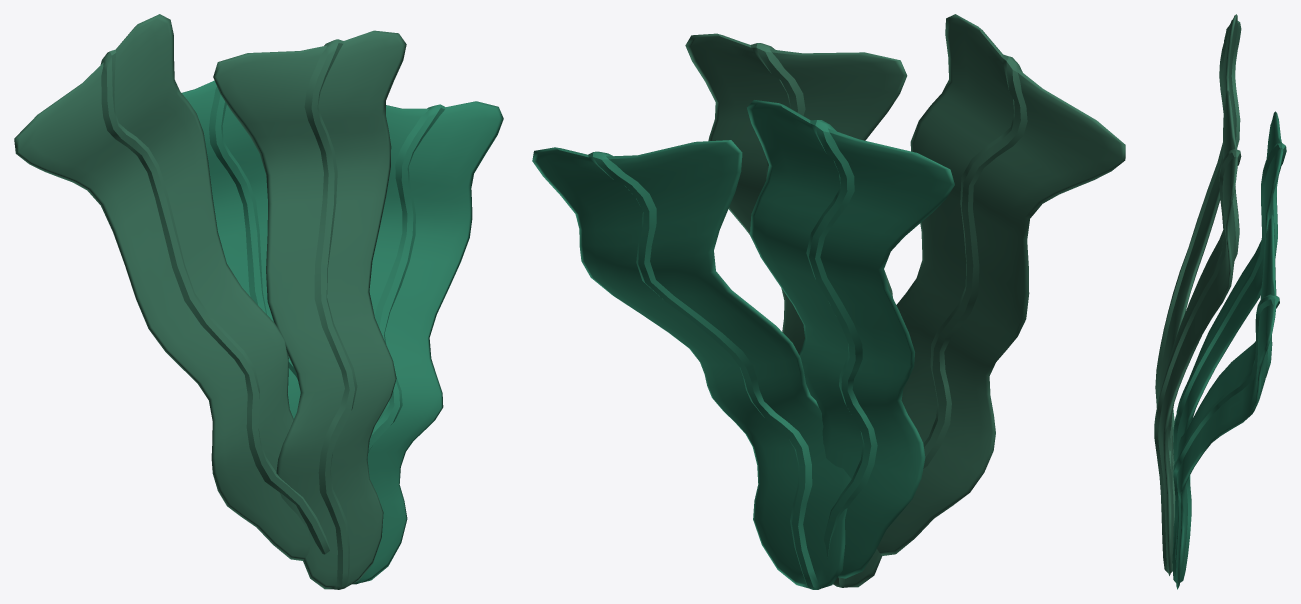
File: wakame.fbx
3 renders of one model, left to right at view 1: azimuth 30°, elevation 25°; view 2: azimuth 150°, elevation 25°; view 3: azimuth 270°, elevation 25°, orthographic. The views are drawn at different scales.
Visible parts, largest first — view 1: polySurface5, polySurface3, polySurface4, polySurface6; view 2: polySurface3, polySurface4, polySurface6, polySurface5; view 3: polySurface5, polySurface4, polySurface6, polySurface3.
Part boxes in pixels (left/top/right/bottom): polySurface5: left=213, top=30, right=406, bottom=589; polySurface3: left=14, top=14, right=330, bottom=560; polySurface4: left=352, top=101, right=503, bottom=584; polySurface6: left=182, top=80, right=300, bottom=418; polySurface3: left=877, top=14, right=1125, bottom=555; polySurface4: left=532, top=140, right=851, bottom=589; polySurface6: left=747, top=100, right=954, bottom=578; polySurface5: left=685, top=33, right=907, bottom=587; polySurface5: left=1154, top=90, right=1241, bottom=575; polySurface4: left=1173, top=215, right=1279, bottom=589; polySurface6: left=1172, top=111, right=1286, bottom=563; polySurface3: left=1155, top=14, right=1241, bottom=484.
Bounding box in the file's own units: 9.59 × 10.45 × 2.51.
